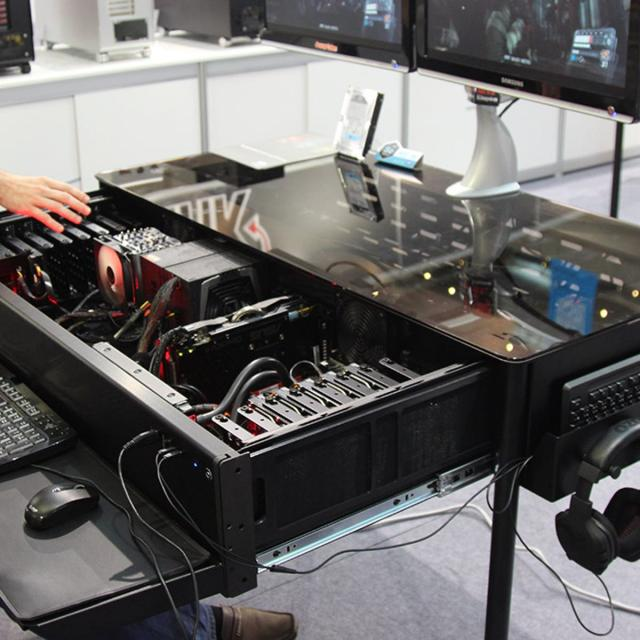electronics: (105, 157, 639, 499), (104, 157, 639, 358), (155, 284, 491, 548), (242, 366, 491, 549), (415, 0, 639, 197), (1, 206, 259, 322), (407, 0, 638, 121), (3, 213, 259, 322), (415, 0, 639, 121), (523, 334, 639, 500), (160, 296, 330, 403), (94, 227, 259, 323), (555, 419, 639, 574), (234, 363, 397, 434), (261, 0, 414, 70), (139, 240, 259, 321), (1, 216, 107, 297), (2, 218, 107, 299), (446, 86, 519, 198), (0, 365, 75, 473), (34, 0, 153, 61), (202, 132, 334, 186), (94, 227, 179, 307), (264, 0, 375, 59), (238, 375, 347, 433), (451, 103, 518, 197), (560, 355, 639, 432), (93, 342, 187, 406), (555, 495, 619, 574), (20, 224, 92, 294), (6, 228, 70, 299), (155, 0, 263, 41), (179, 325, 254, 380), (335, 299, 392, 366), (333, 85, 382, 160), (24, 481, 99, 529), (549, 258, 597, 332), (334, 155, 383, 219), (195, 152, 283, 187), (32, 183, 90, 231), (603, 487, 639, 561), (0, 237, 45, 296), (220, 606, 298, 639), (58, 222, 94, 293), (96, 241, 134, 307), (569, 26, 622, 73), (0, 0, 33, 72), (113, 227, 179, 254), (4, 227, 54, 258), (462, 269, 494, 315), (374, 139, 422, 169), (83, 213, 127, 235), (63, 223, 91, 253), (3, 235, 41, 257), (78, 216, 111, 236), (23, 230, 54, 251), (451, 463, 486, 481), (615, 443, 639, 467), (375, 140, 401, 161), (41, 227, 71, 245), (268, 323, 296, 338), (252, 359, 275, 372), (0, 245, 14, 259), (75, 255, 85, 272), (300, 280, 309, 298), (179, 157, 190, 169), (130, 366, 140, 379), (463, 469, 477, 478), (611, 4, 625, 13), (199, 155, 209, 164), (396, 494, 406, 503), (227, 401, 236, 410), (299, 366, 308, 374), (404, 360, 411, 369), (40, 178, 52, 183), (211, 367, 218, 375), (275, 398, 281, 407), (200, 157, 207, 163), (283, 339, 287, 349), (264, 396, 268, 406), (299, 371, 307, 376), (85, 273, 88, 286), (263, 293, 270, 298), (112, 228, 123, 231), (315, 303, 320, 309), (400, 370, 406, 375), (481, 466, 486, 472), (592, 16, 597, 22), (309, 296, 316, 300), (259, 435, 268, 438), (261, 384, 270, 387), (232, 430, 237, 435), (325, 387, 330, 392), (287, 350, 293, 354), (151, 363, 155, 369), (251, 387, 258, 390), (310, 278, 314, 283), (285, 274, 289, 279), (262, 263, 267, 267), (270, 421, 274, 426), (416, 362, 419, 368), (61, 249, 65, 253), (288, 281, 292, 285), (343, 17, 347, 21), (474, 94, 477, 99), (228, 372, 232, 375), (297, 323, 301, 326), (419, 365, 422, 369), (336, 391, 339, 395), (556, 412, 558, 417), (51, 231, 54, 234), (262, 422, 265, 425), (318, 380, 321, 383), (336, 371, 339, 374), (612, 16, 614, 20), (347, 164, 350, 166), (331, 325, 333, 328), (412, 373, 415, 375), (434, 483, 436, 486), (564, 379, 566, 381), (594, 366, 596, 368), (408, 374, 410, 376), (96, 345, 98, 347), (6, 253, 10, 254), (49, 234, 51, 236), (609, 17, 611, 19), (389, 502, 390, 506), (37, 286, 40, 287), (198, 381, 199, 384), (227, 351, 230, 352), (222, 403, 223, 406), (316, 340, 317, 342), (236, 389, 238, 390), (13, 241, 14, 243), (40, 291, 41, 292), (236, 369, 237, 370), (576, 345, 577, 346), (244, 380, 245, 381), (157, 381, 158, 382), (94, 298, 95, 299), (311, 382, 312, 383), (267, 293, 267, 294), (51, 283, 51, 286), (131, 363, 132, 363), (227, 426, 227, 428), (214, 422, 214, 423), (242, 158, 245, 158), (609, 22, 611, 22)
